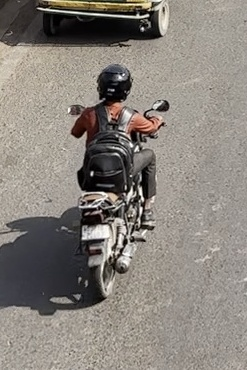BikeWithRider: (63, 61, 171, 301)
Helmet: (92, 61, 135, 106)
